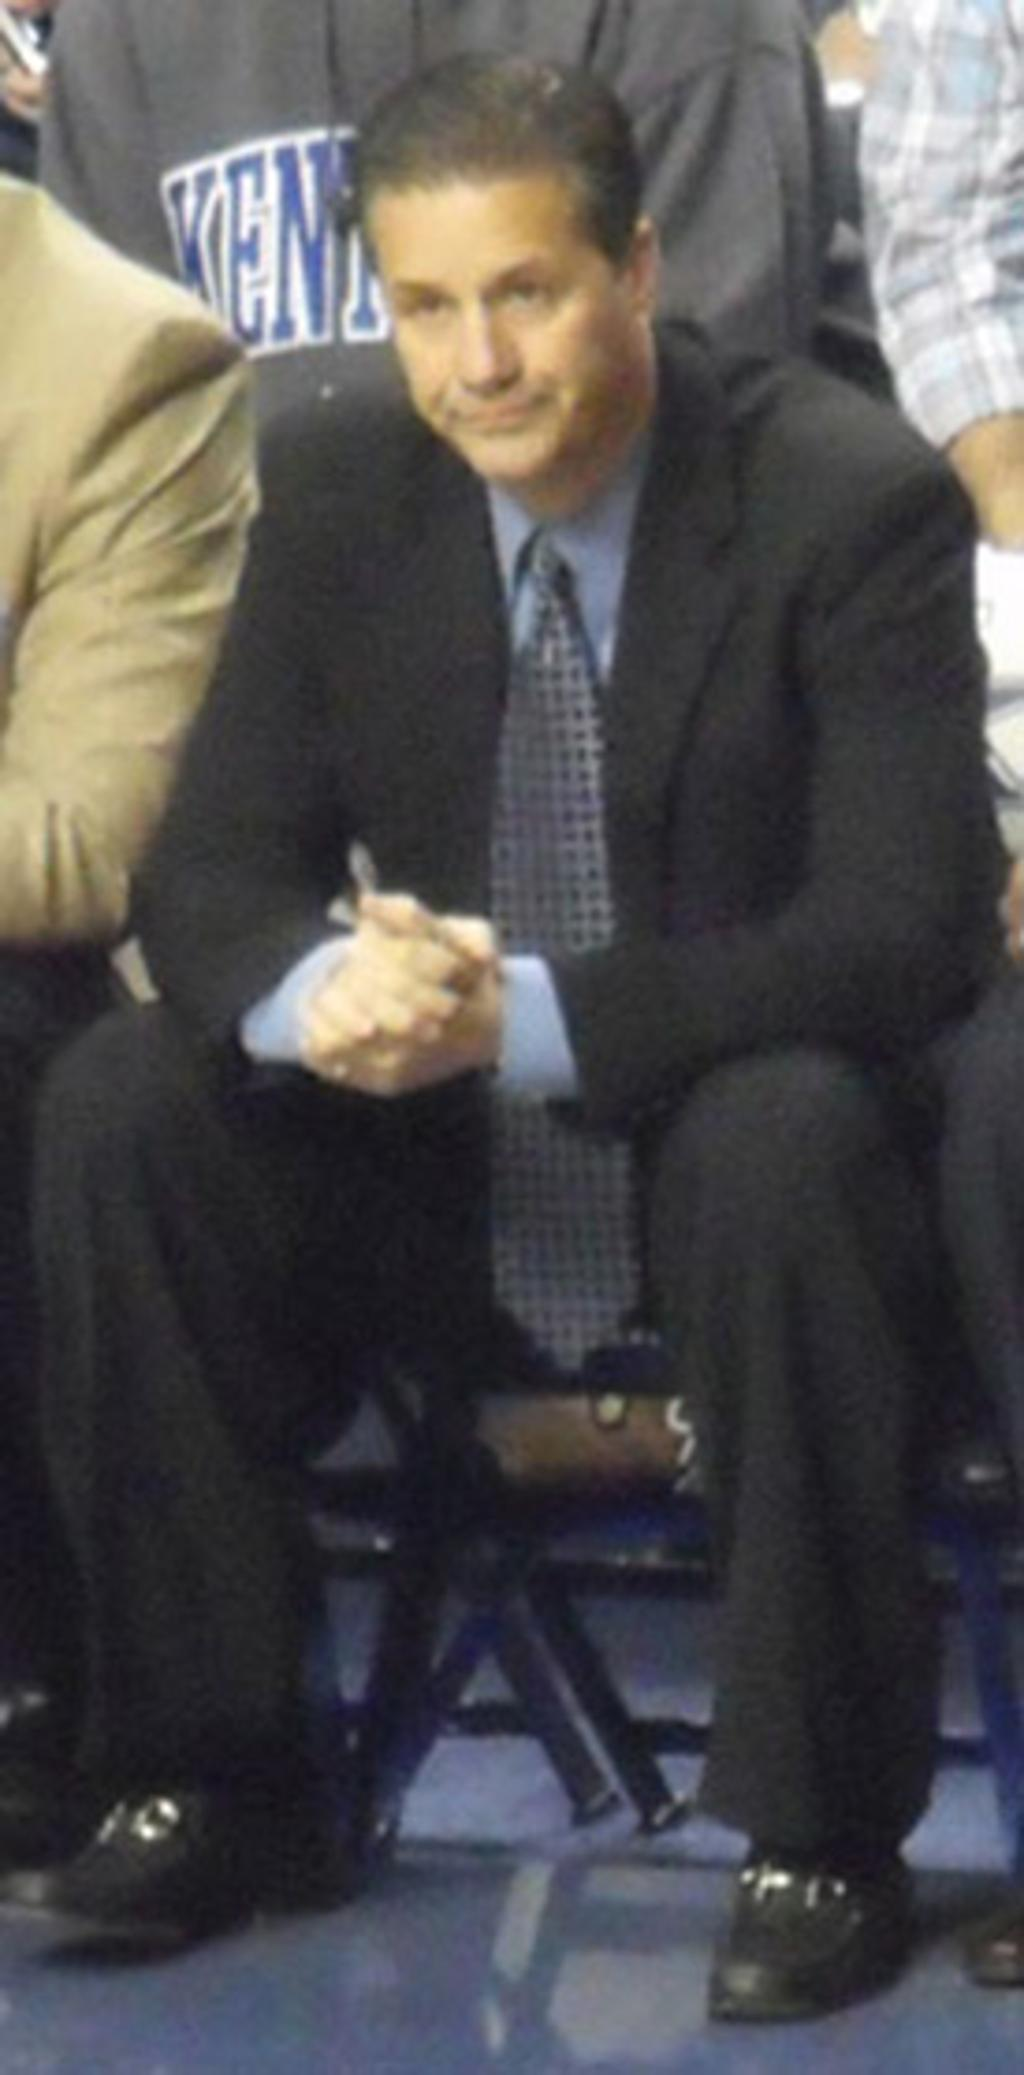face: (381, 195, 632, 470)
